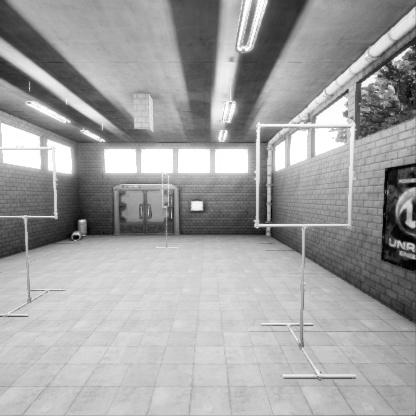gate: (259, 192, 366, 297), (162, 209, 169, 245)
